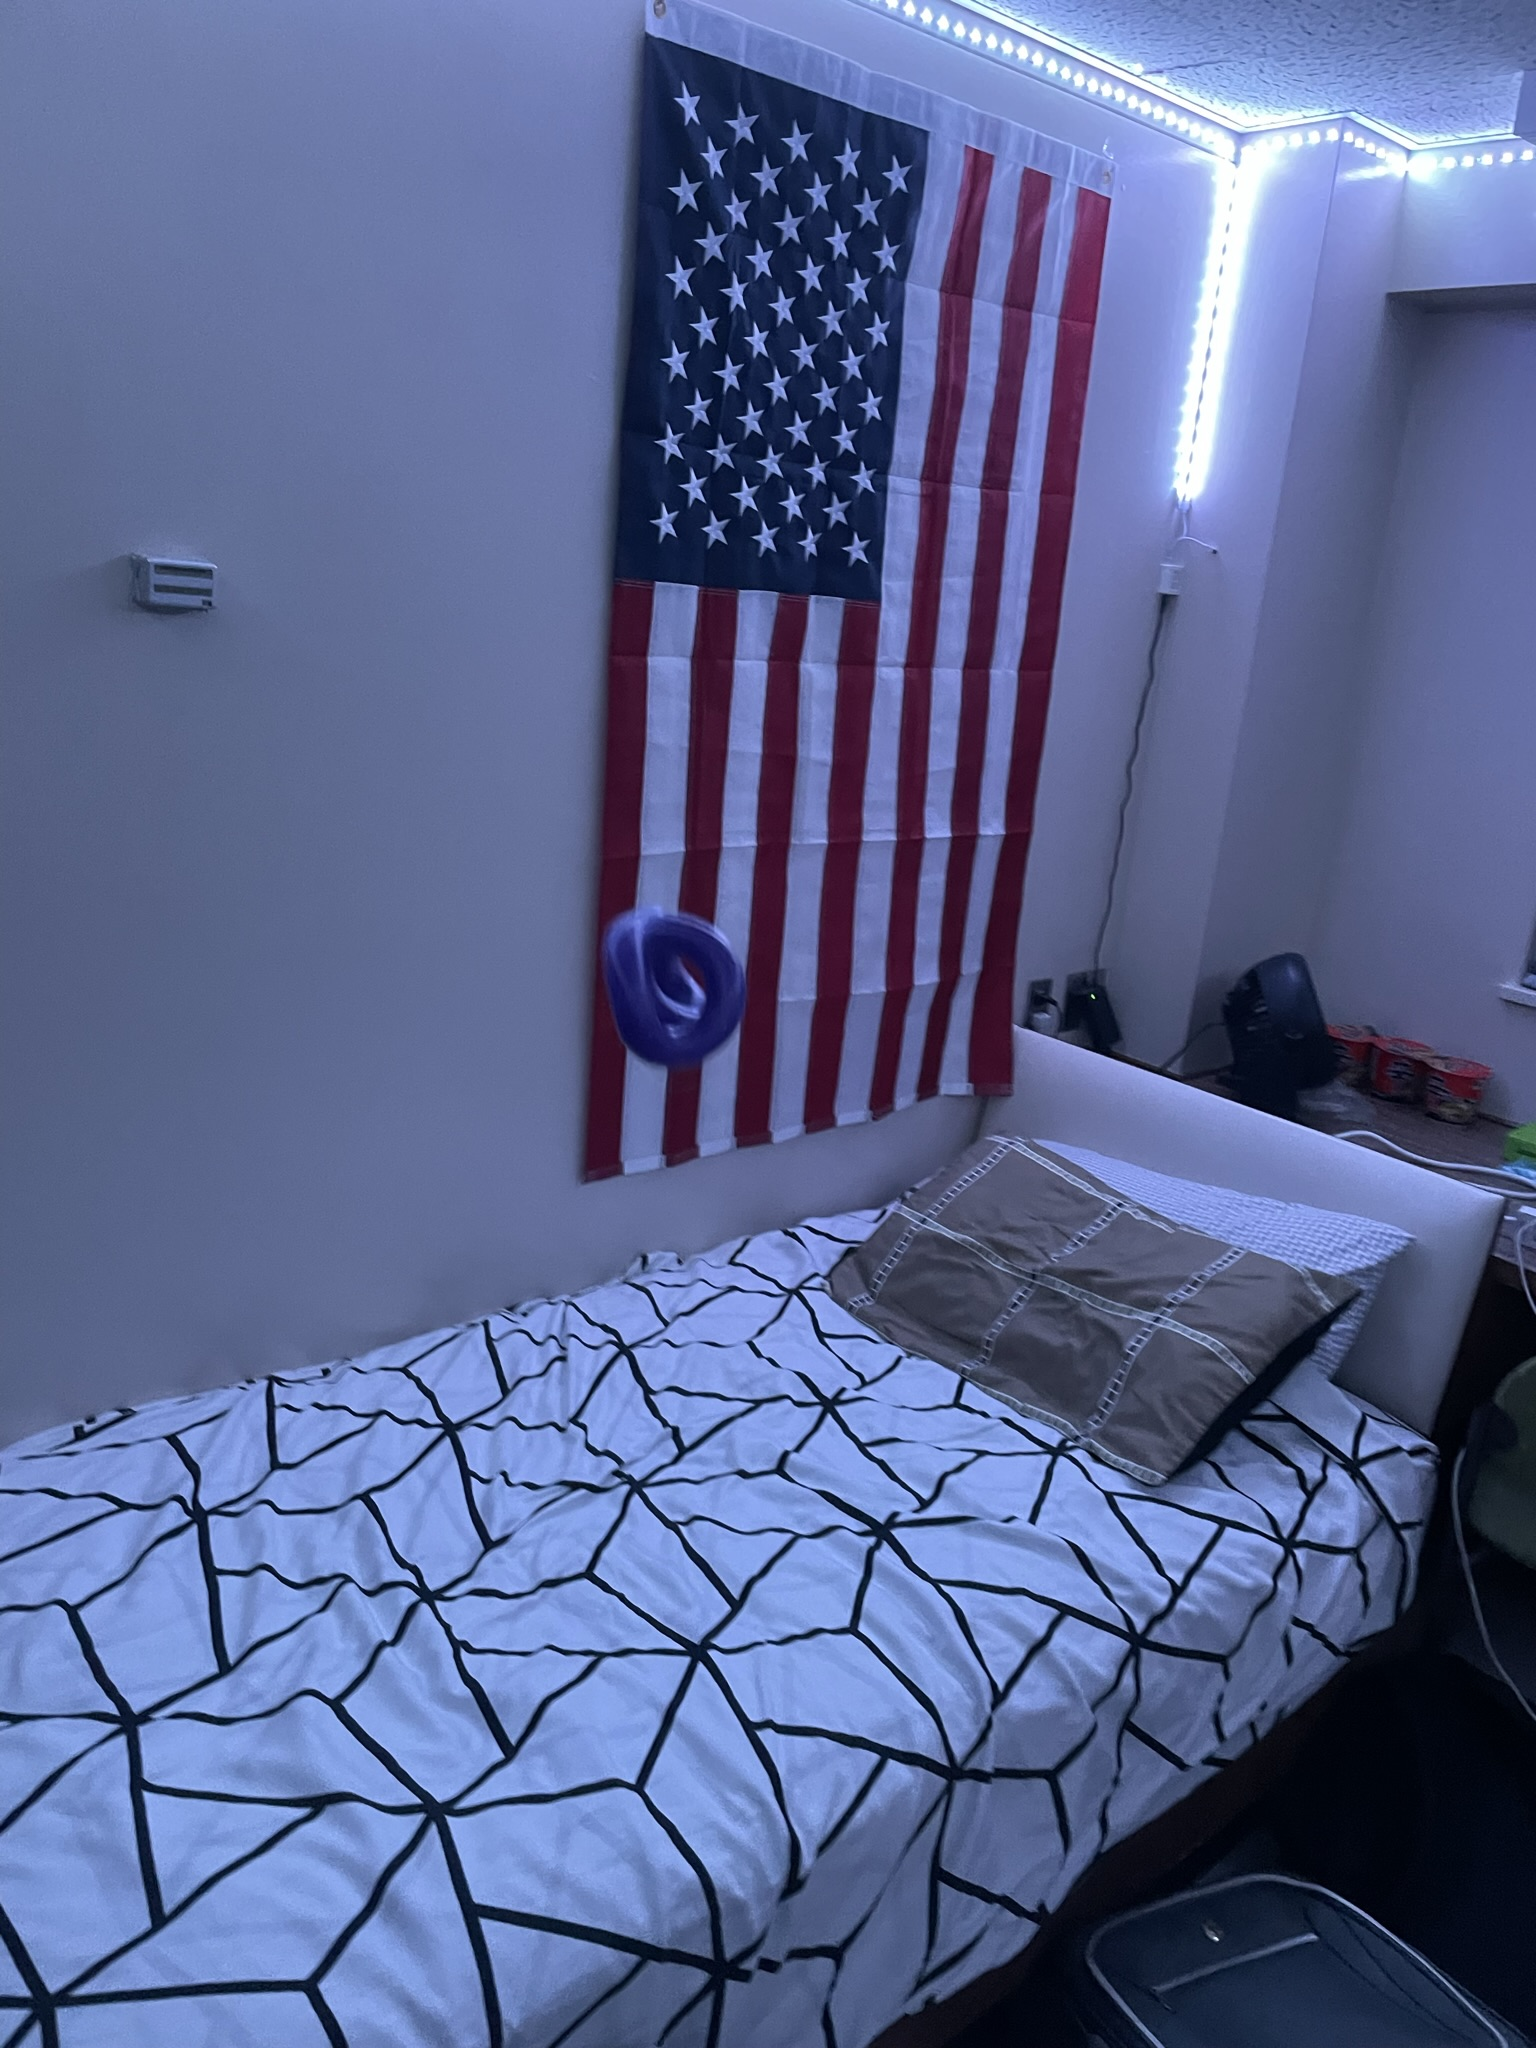ring: (603, 914, 744, 1061), (616, 919, 742, 1042)
